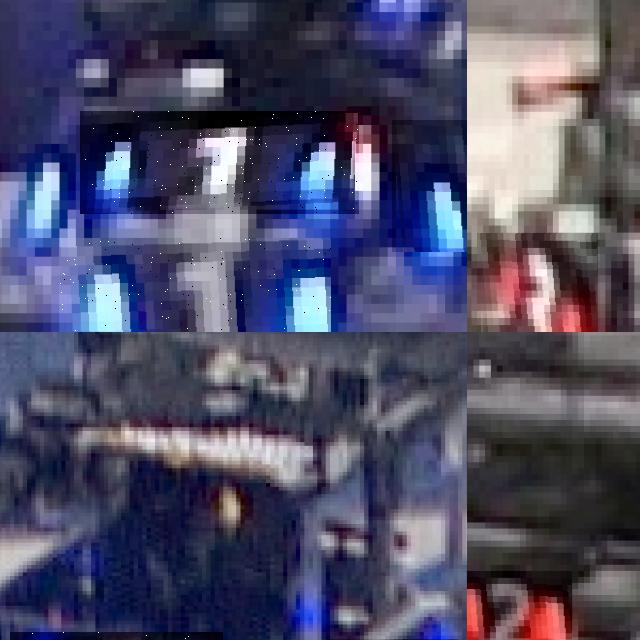B1: (80, 111, 359, 214), (59, 238, 330, 332), (392, 120, 467, 252)
R2: (467, 570, 572, 640)
R3: (477, 232, 599, 332)
